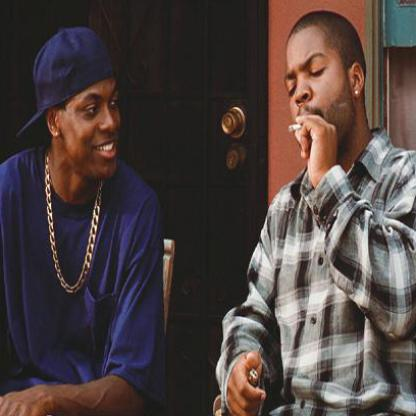cigarette: (286, 122, 303, 134)
person: (240, 6, 416, 415), (0, 28, 163, 416)
